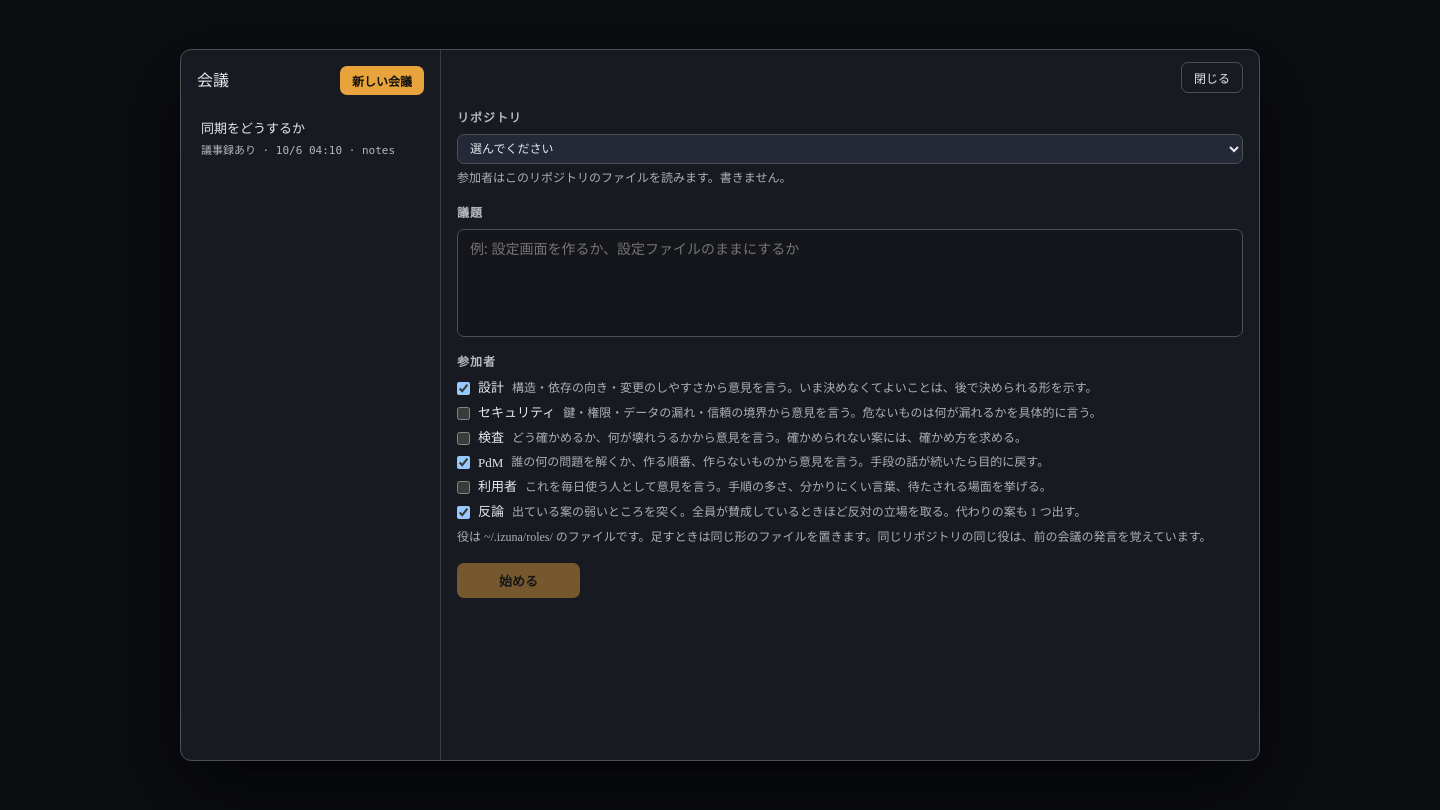
Scenario: 会議 › 読み込みの途中に届いた出来事を、読み終わった中身に重ねる（同じ発言は 2 度足さない）
The width and height of the screenshot is (1440, 810).
Click the text "同期をどうするか" at (253, 128), box [201,121,305,136]
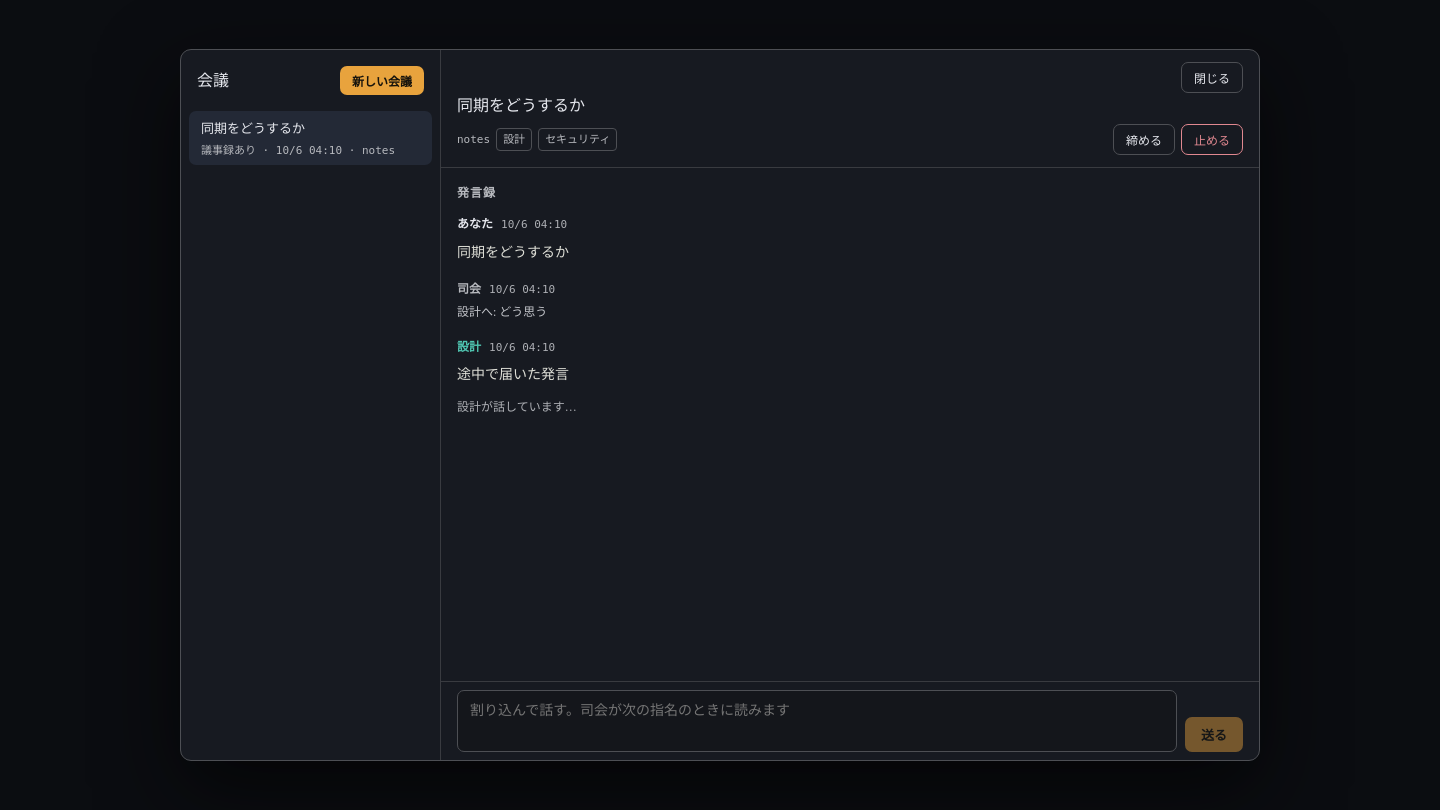
Expected: the text "途中で届いた発言" is shown, [457,364,569,383]
Expected: the text "設計へ: どう思う" is shown once, [457,305,547,319]
Expected: the button "締める" is shown, [1113,124,1175,155]
